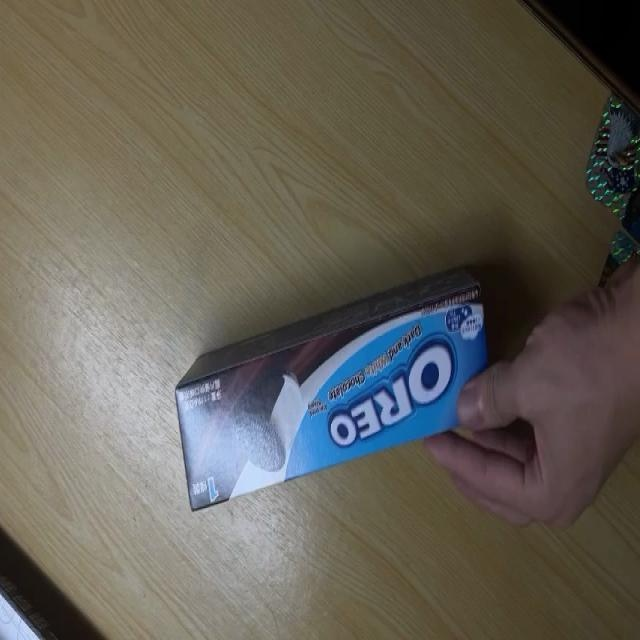Oreo: (171, 263, 493, 510)
